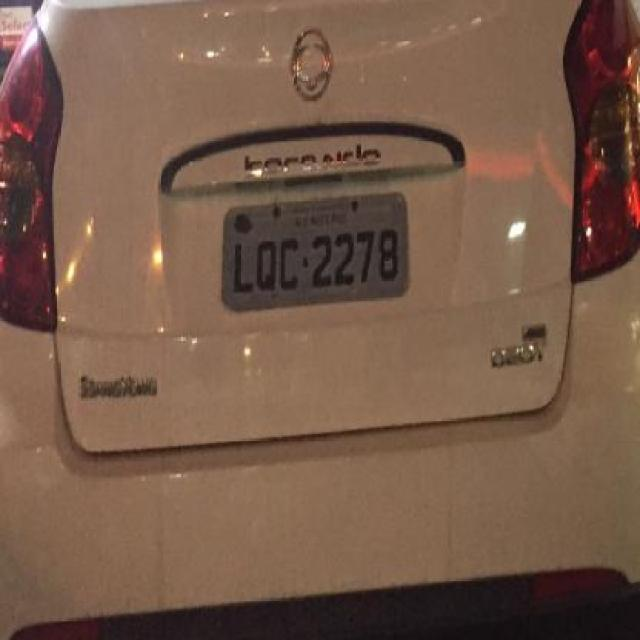old_plate: (216, 186, 414, 317)
